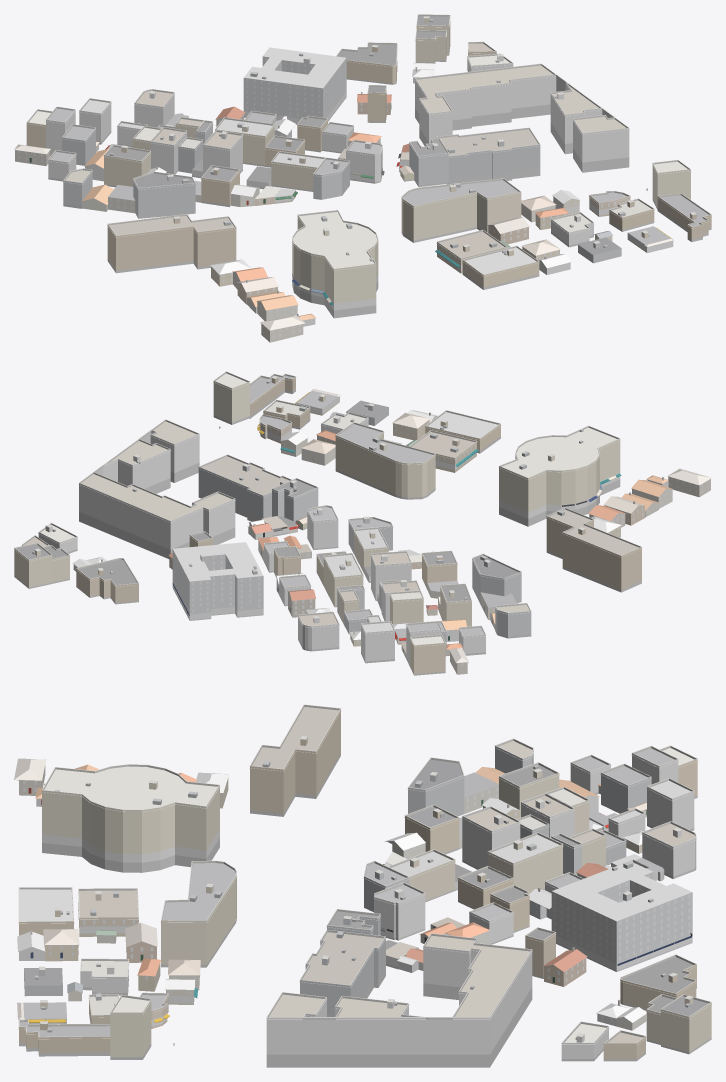
Rendered from bld_1_-2.dae.
The picture shows the model from 3 angles, top to bottom: view 1: azimuth 30°, elevation 25°; view 2: azimuth 150°, elevation 25°; view 3: azimuth 270°, elevation 25°; orthographic projection. The views are drawn at different scales.
Visible parts, largest first — view 1: blda2006; view 2: blda2006; view 3: blda2006.
Boxes of the visible parts, bbox=[...] form: blda2006: bbox=[14, 14, 711, 342]; blda2006: bbox=[14, 371, 711, 675]; blda2006: bbox=[14, 704, 711, 1067].
Bounding box in the file's own units: 283 × 269 × 29.83.
